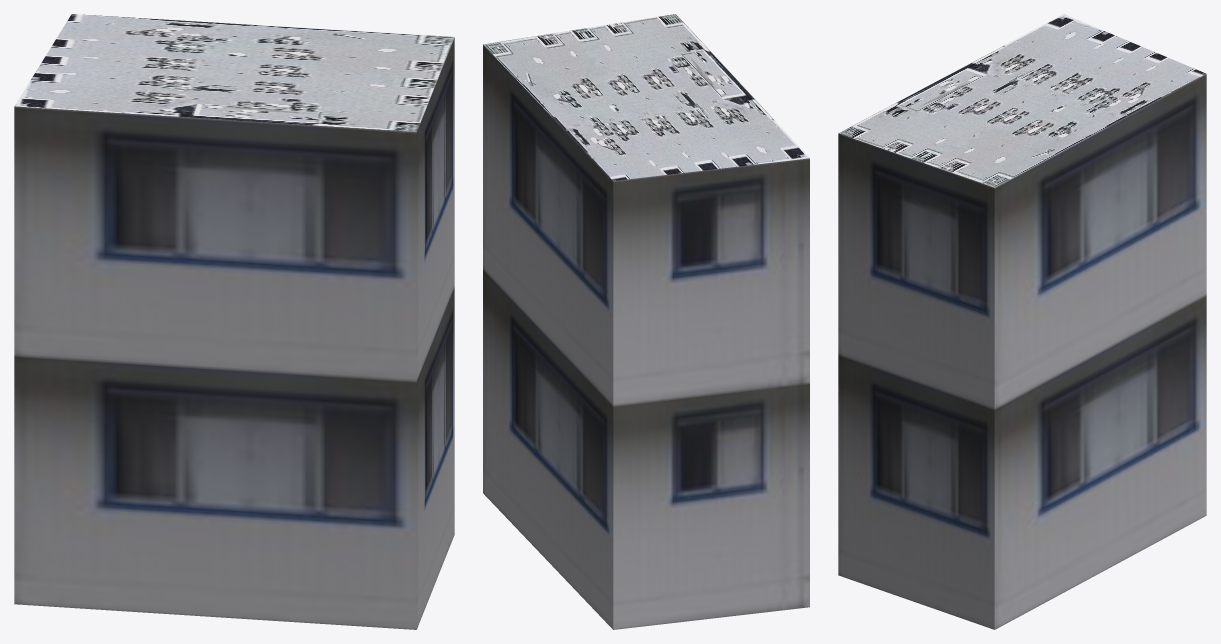
File: ResTex__147.fbx
3 renders of one model, left to right at view 1: azimuth 30°, elevation 25°; view 2: azimuth 150°, elevation 25°; view 3: azimuth 270°, elevation 25°, orthographic. The views are drawn at different scales.
Visible parts, largest first — view 1: CityEngineMaterial_9_m, CityEngineMaterial_m; view 2: CityEngineMaterial_9_m, CityEngineMaterial_m; view 3: CityEngineMaterial_9_m, CityEngineMaterial_m.
Part boxes in pixels (x1,y1,x2,y2): CityEngineMaterial_9_m: (14, 37, 454, 629); CityEngineMaterial_m: (15, 14, 454, 131); CityEngineMaterial_9_m: (483, 44, 809, 629); CityEngineMaterial_m: (483, 14, 809, 180); CityEngineMaterial_9_m: (838, 74, 1206, 629); CityEngineMaterial_m: (839, 14, 1205, 187).
Size of the model in its own units: 5.06 by 6 by 4.53.
Materials: 2 (2 with a texture image).
